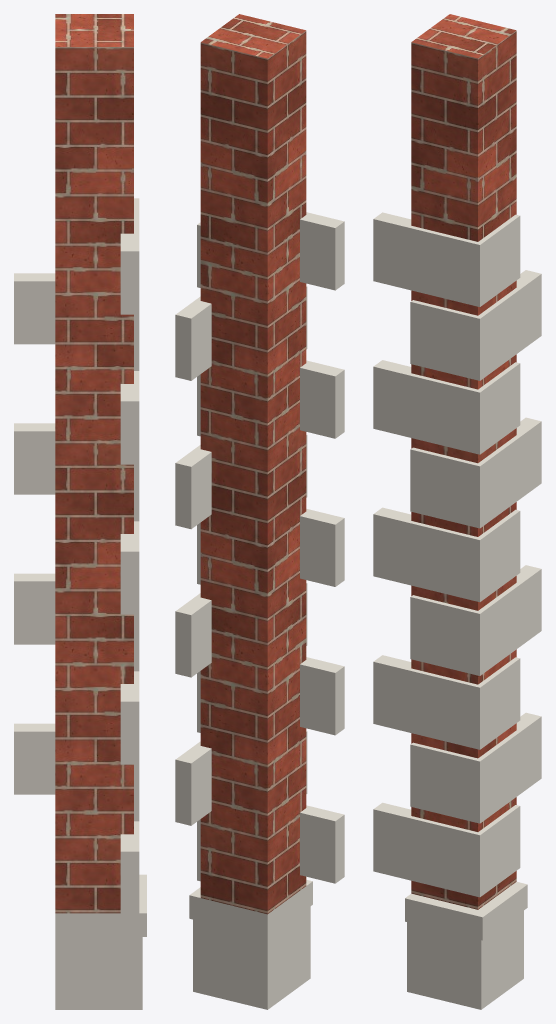
Rendered from corner_hall.glb.
3 views of the same model, side by side, from view 1: azimuth 90°, elevation 25°; view 2: azimuth 150°, elevation 25°; view 3: azimuth 330°, elevation 25° (orthographic).
Parts seen in each view (by area): view 1: corner_hall_brick, corner_hall_lime; view 2: corner_hall_brick, corner_hall_lime; view 3: corner_hall_lime, corner_hall_brick.
Part boxes in pixels (x1,y1,x2,y2): corner_hall_brick: [55, 14, 133, 913]; corner_hall_lime: [14, 198, 146, 1009]; corner_hall_brick: [200, 14, 306, 914]; corner_hall_lime: [175, 212, 344, 1009]; corner_hall_lime: [373, 212, 541, 1009]; corner_hall_brick: [411, 14, 516, 909].
Bounding box in the file's own units: 0.61 × 4.88 × 0.61.
Materials: 2 (1 with a texture image).
